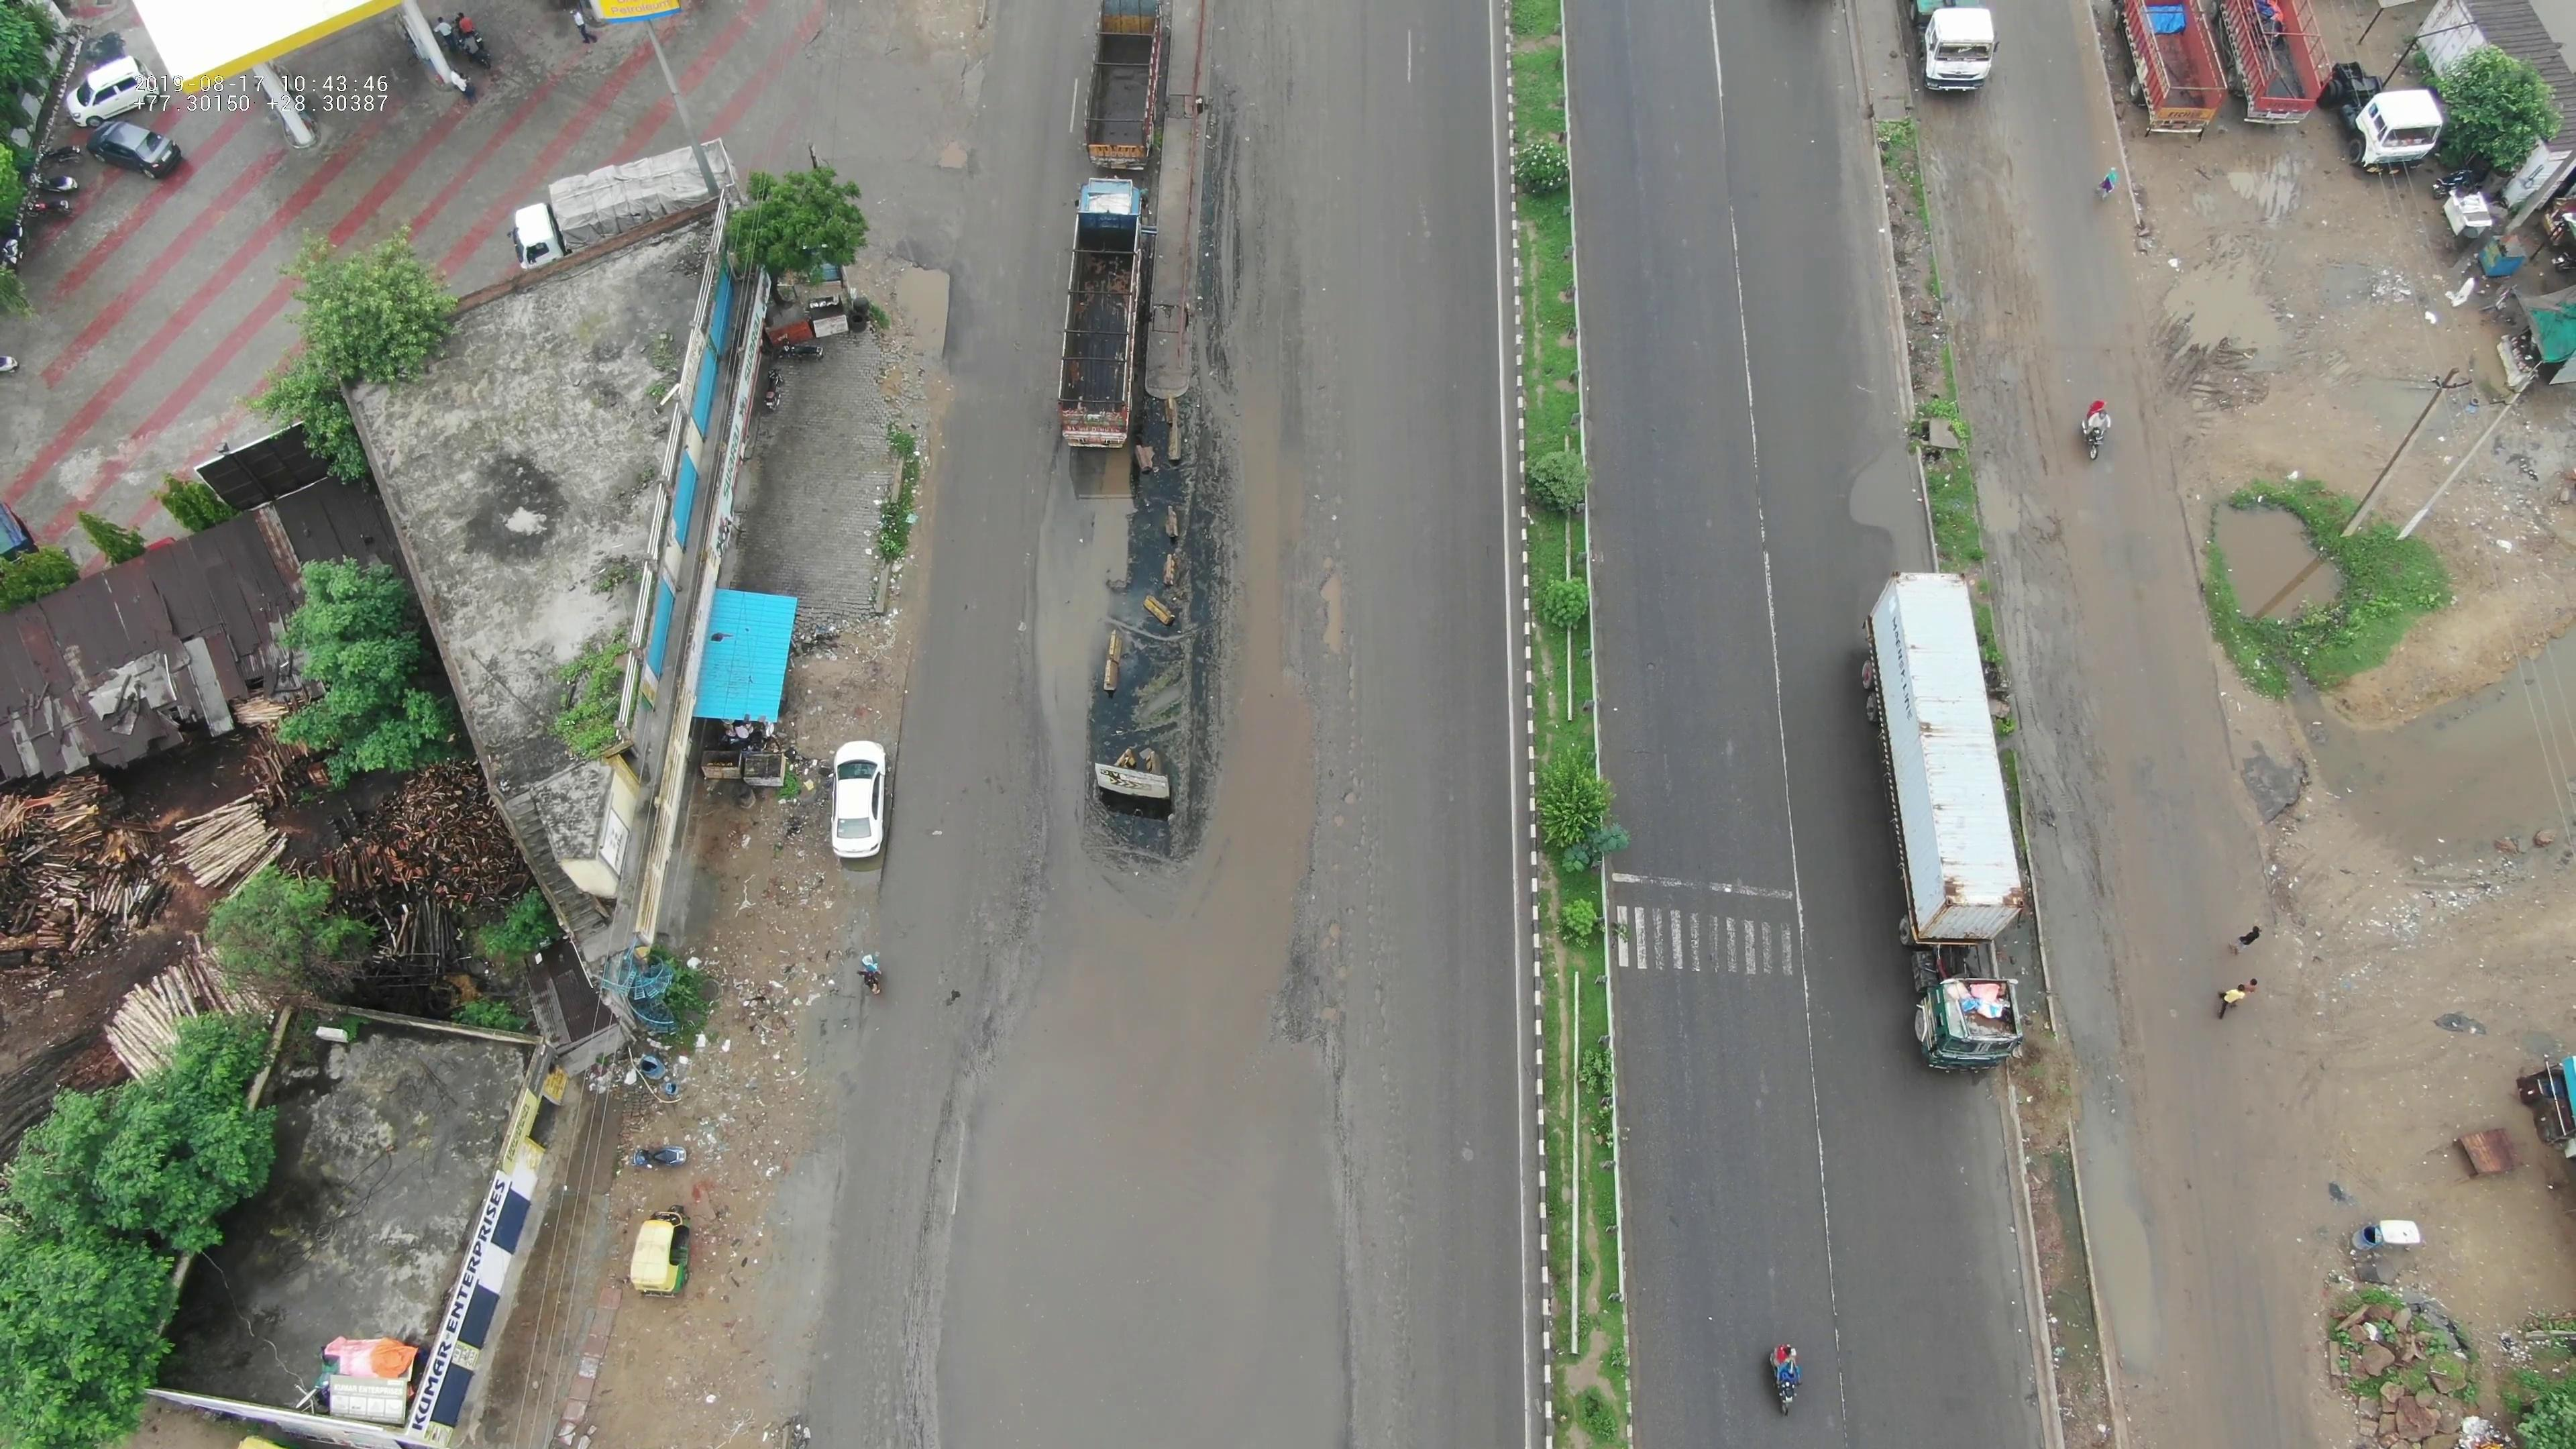Muddy_road: (1946, 193, 2088, 524), (2015, 538, 2112, 888)
Potholes: (1290, 382, 1366, 699), (1316, 755, 1394, 1046), (855, 1217, 924, 1433), (1380, 1095, 1419, 1419), (916, 119, 984, 186)
Waterlogging: (945, 706, 1322, 1440), (2051, 1131, 2160, 1359), (1824, 395, 1916, 563)
